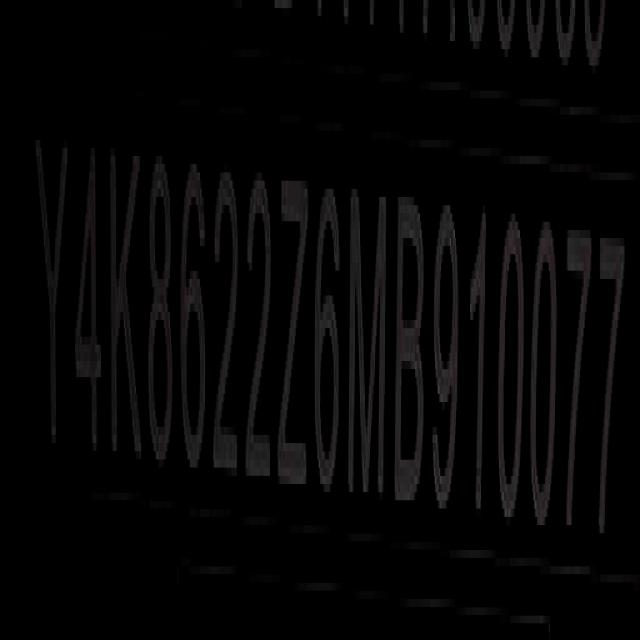0: (529, 204, 560, 541), (498, 196, 526, 536)
1: (466, 187, 489, 536)
2: (210, 165, 241, 495), (245, 163, 274, 496)
4: (72, 130, 106, 467)
6: (181, 152, 211, 486), (313, 176, 343, 506)
7: (597, 220, 627, 551), (562, 215, 592, 544)
8: (147, 146, 176, 476)
9: (431, 189, 460, 529)
B: (394, 183, 428, 514)
K: (110, 136, 142, 472)
M: (349, 178, 388, 510)
Y: (36, 126, 70, 464)
Z: (280, 164, 312, 503)
